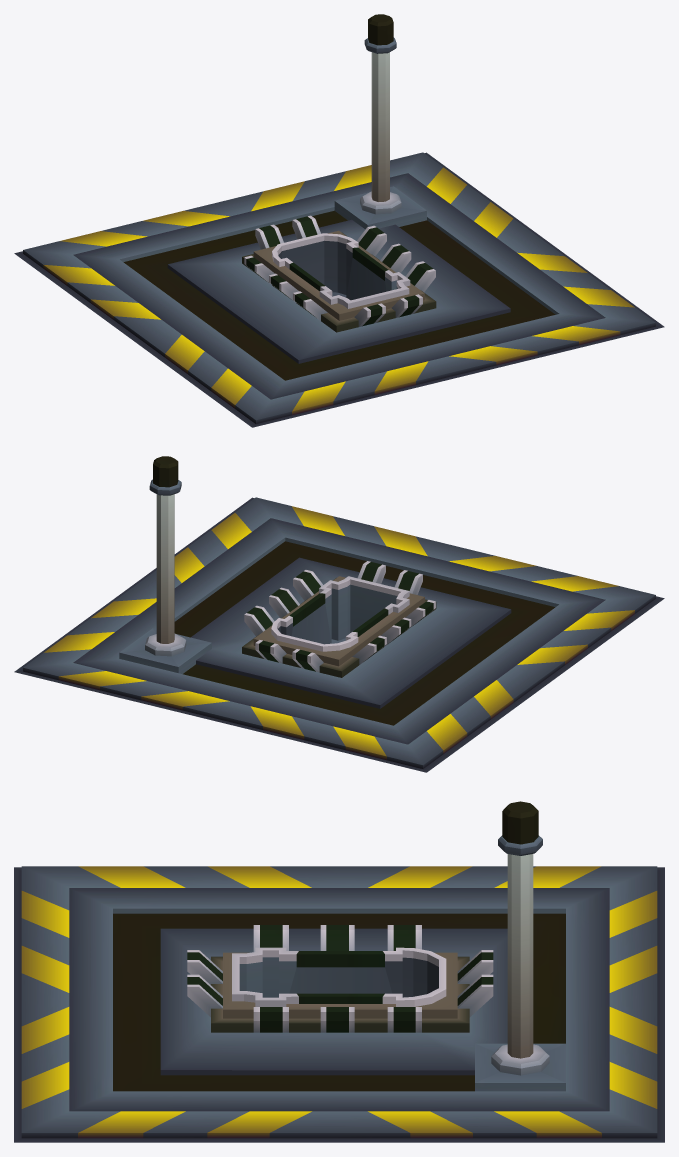
File: Socket_Piso_nuevo.fbx
3 renders of one model, top to bottom at view 1: azimuth 30°, elevation 25°; view 2: azimuth 150°, elevation 25°; view 3: azimuth 270°, elevation 25°, orthographic. The views are drawn at different scales.
Visible parts, largest first — view 1: Socket_Nodo_Piso2, Poste_Luz; view 2: Socket_Nodo_Piso2, Poste_Luz; view 3: Socket_Nodo_Piso2, Poste_Luz.
Part boxes in pixels (<box>): Socket_Nodo_Piso2: <box>14,152,664,427</box>; Poste_Luz: <box>360,14,401,214</box>; Socket_Nodo_Piso2: <box>14,497,664,772</box>; Poste_Luz: <box>145,456,186,656</box>; Socket_Nodo_Piso2: <box>14,866,664,1142</box>; Poste_Luz: <box>491,801,549,1075</box>.
Size of the model in its own units: 100 by 53.36 by 100.
